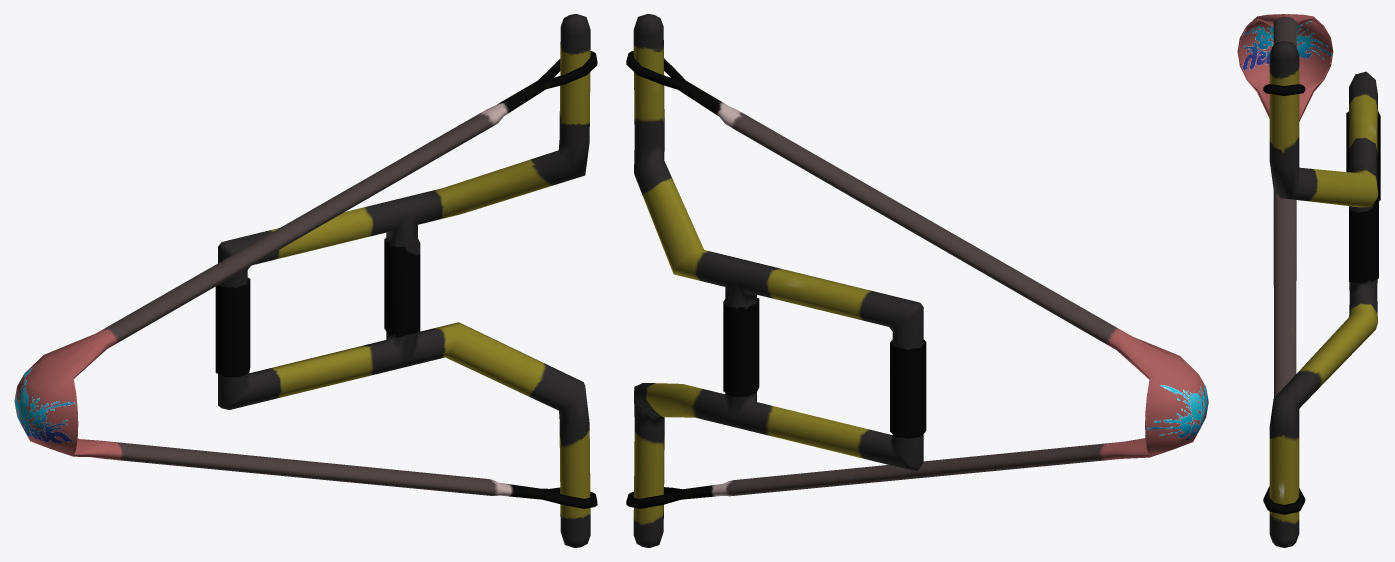
File: Water_Baloon_bow.fbx
3 views of the same model, side by side, from view 1: azimuth 30°, elevation 25°; view 2: azimuth 150°, elevation 25°; view 3: azimuth 270°, elevation 25° (orthographic). The views are drawn at different scales.
Parts seen in each view (by area): view 1: pCylinder6; view 2: pCylinder6; view 3: pCylinder6.
Part boxes in pixels (x1,y1,x2,y2): pCylinder6: (14,14,597,547); pCylinder6: (626,14,1208,547); pCylinder6: (1237,14,1380,547).
Size of the model in its own units: 130 by 115 by 29.61.
